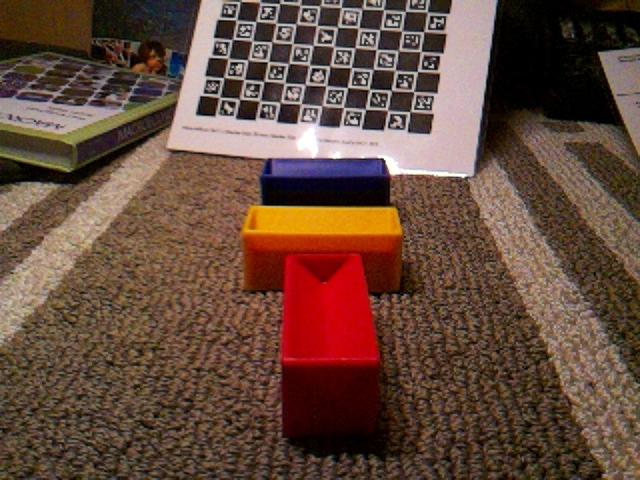blue: (258, 156, 392, 207)
red: (279, 252, 383, 441)
yellow: (240, 204, 404, 294)
